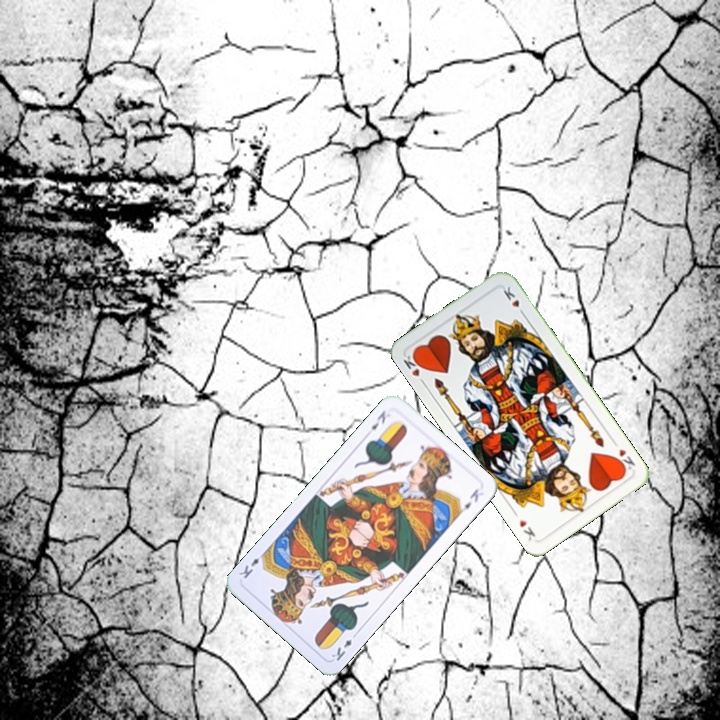EK: (328, 628, 360, 663), (367, 406, 388, 433)
HK: (399, 349, 428, 388), (608, 437, 638, 474)
